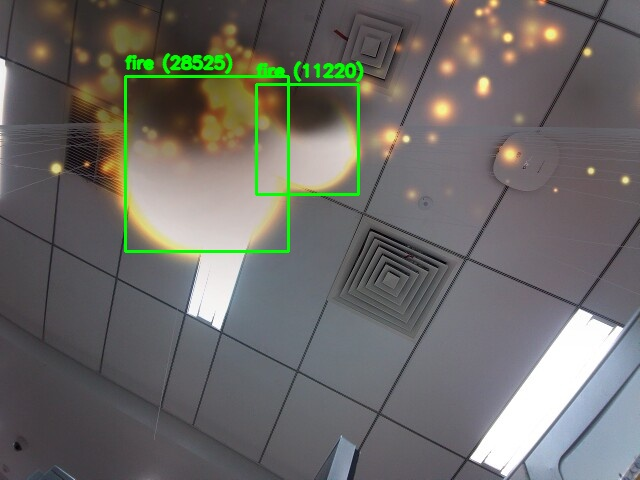fire: (125, 76, 288, 251), (256, 84, 358, 194)
